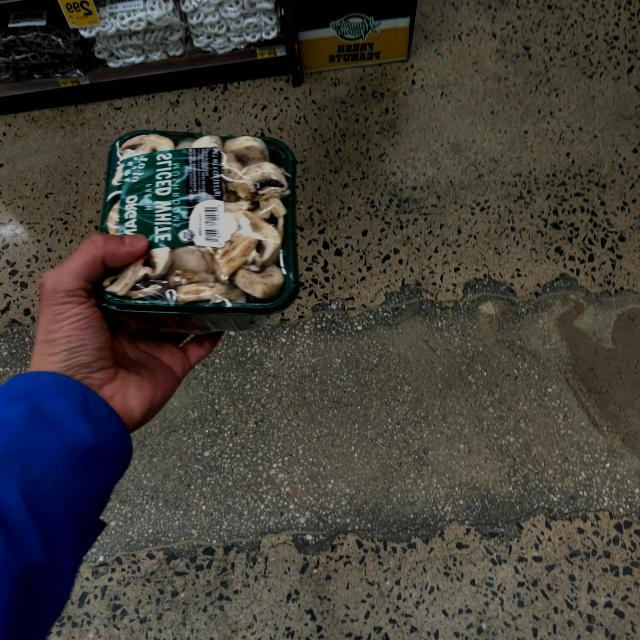mushroom: (86, 130, 320, 339)
